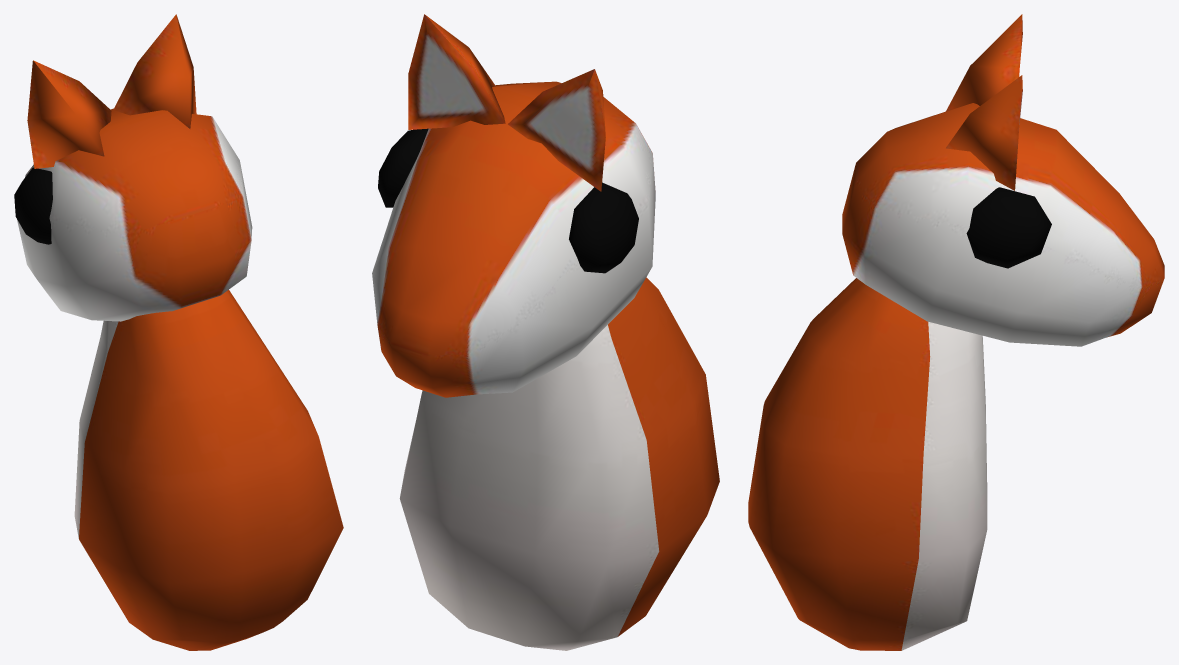
File: baby04.FBX
3 renders of one model, left to right at view 1: azimuth 30°, elevation 25°; view 2: azimuth 150°, elevation 25°; view 3: azimuth 270°, elevation 25°, orthographic. The views are drawn at different scales.
Parts seen in each view (by area): view 1: baby04; view 2: baby04; view 3: baby04.
Part boxes in pixels (box(x1,y1,x2,y2)): baby04: box(14, 14, 343, 650); baby04: box(372, 14, 719, 650); baby04: box(748, 14, 1164, 650).
Bounding box in the file's own units: 0.046 × 0.1091 × 0.0706.
